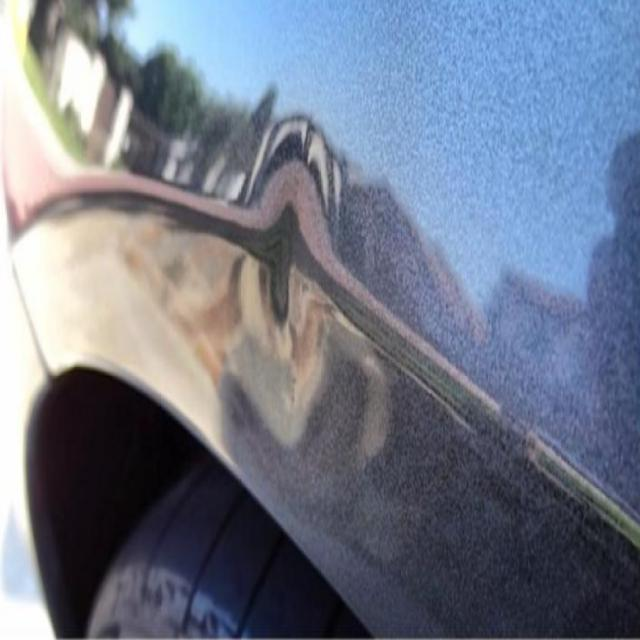dents: (253, 117, 339, 430), (351, 342, 388, 477)
